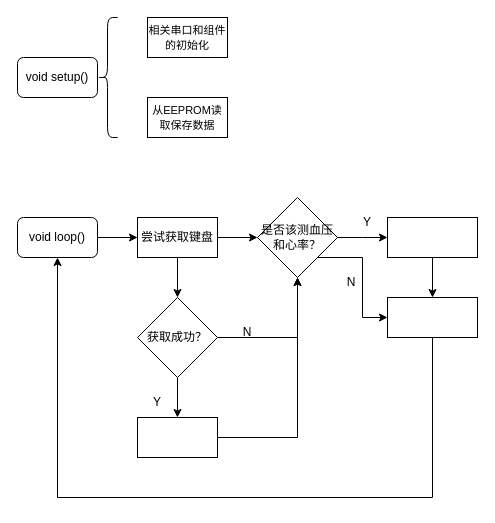
The diagram is 495 pixels wide and 523 high, and some of its shapes have lost their labels. Each missing label, with the centre of its shape:
"屏幕显示、检测阈值合法性、警报控制" goes at point 432,317.
"根据按键进行状态转换" goes at point 177,437.
"读取数值、相关控制变量更新" goes at point 432,237.
